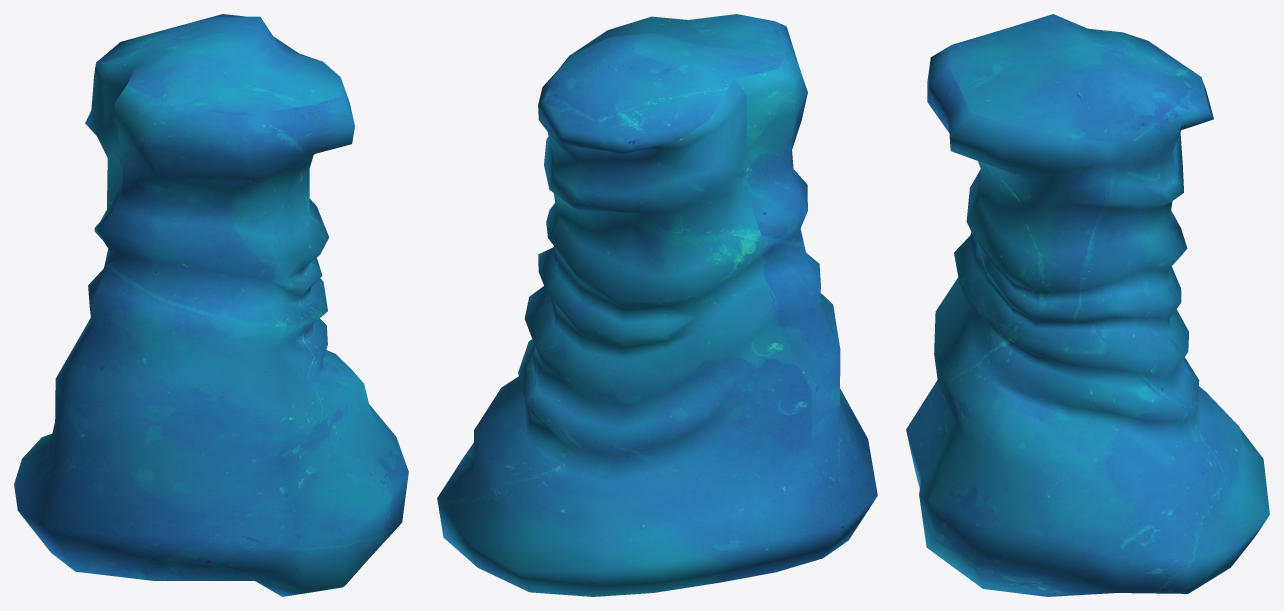
The model's file is FrozenWaterFall.FBX.
3 renders of one model, left to right at view 1: azimuth 30°, elevation 25°; view 2: azimuth 150°, elevation 25°; view 3: azimuth 270°, elevation 25°, orthographic. The views are drawn at different scales.
Visible parts, largest first — view 1: FrozenWaterFall; view 2: FrozenWaterFall; view 3: FrozenWaterFall.
Boxes of the visible parts, x1,y1,x2,y2 form: FrozenWaterFall: (14,14,408,596); FrozenWaterFall: (437,14,877,596); FrozenWaterFall: (906,14,1269,596).
Bounding box in the file's own units: 2193 × 3002 × 1958.
